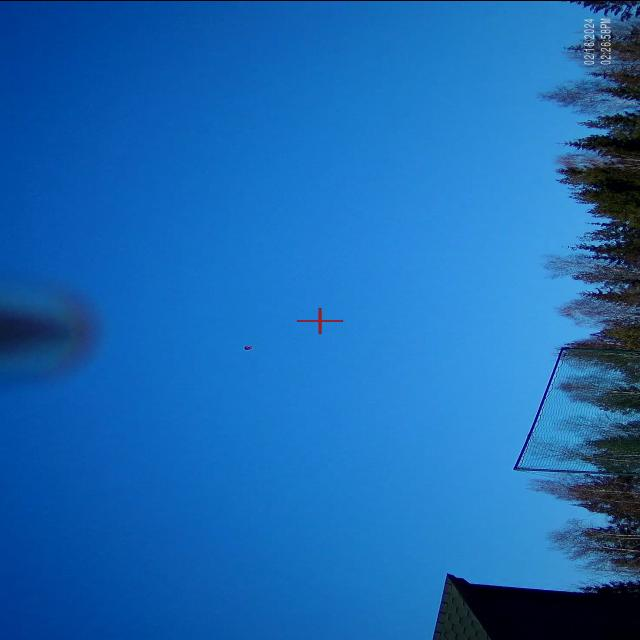entire: (234, 342, 267, 357)
